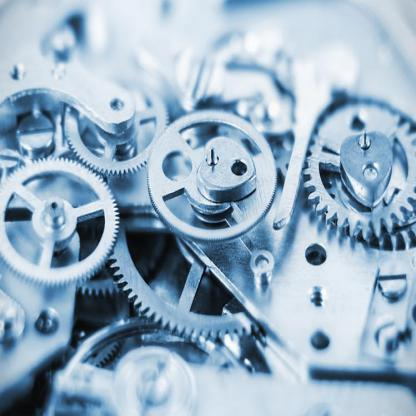FOD: (300, 102, 416, 243), (0, 157, 122, 287)
